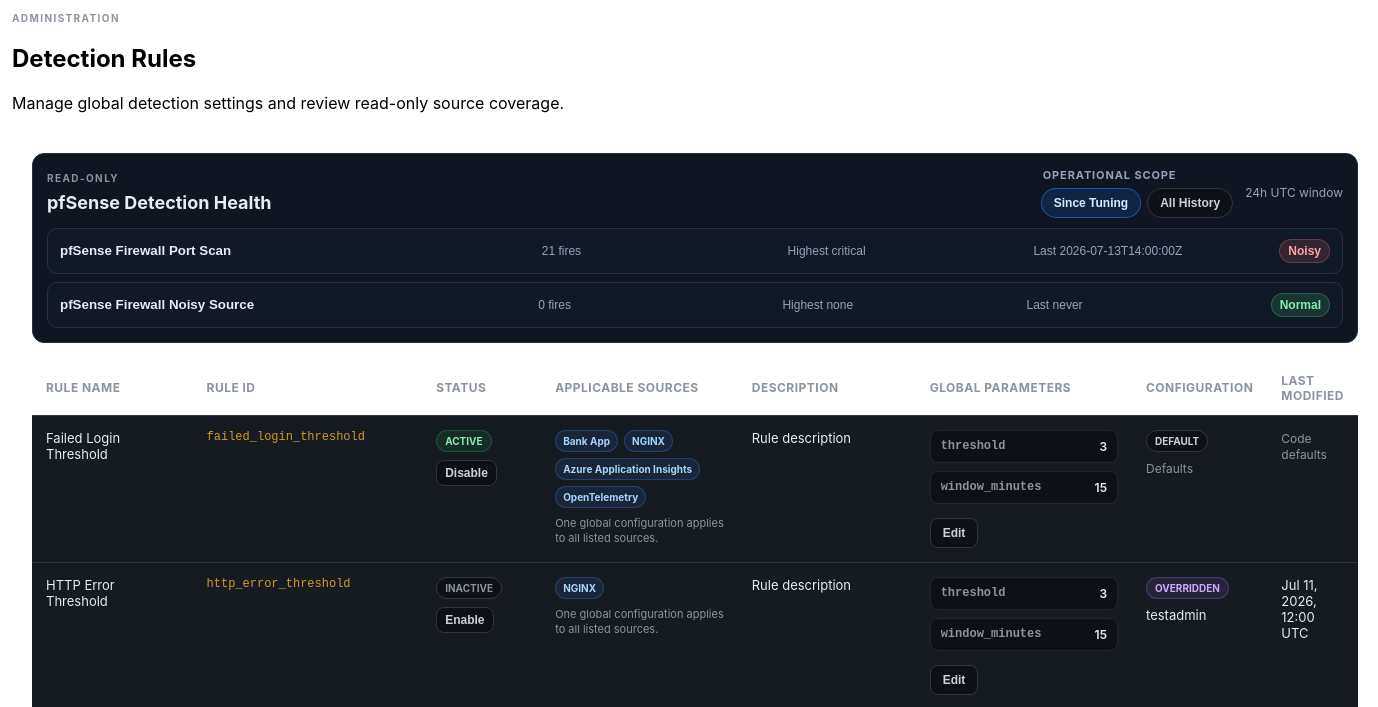
Test: failed active update rolls back optimistic state and displays an error
The width and height of the screenshot is (1378, 707).
Click the button with aria-label "Disable Failed Login Threshold" at [467, 473], box left=436, top=460, right=497, bottom=486
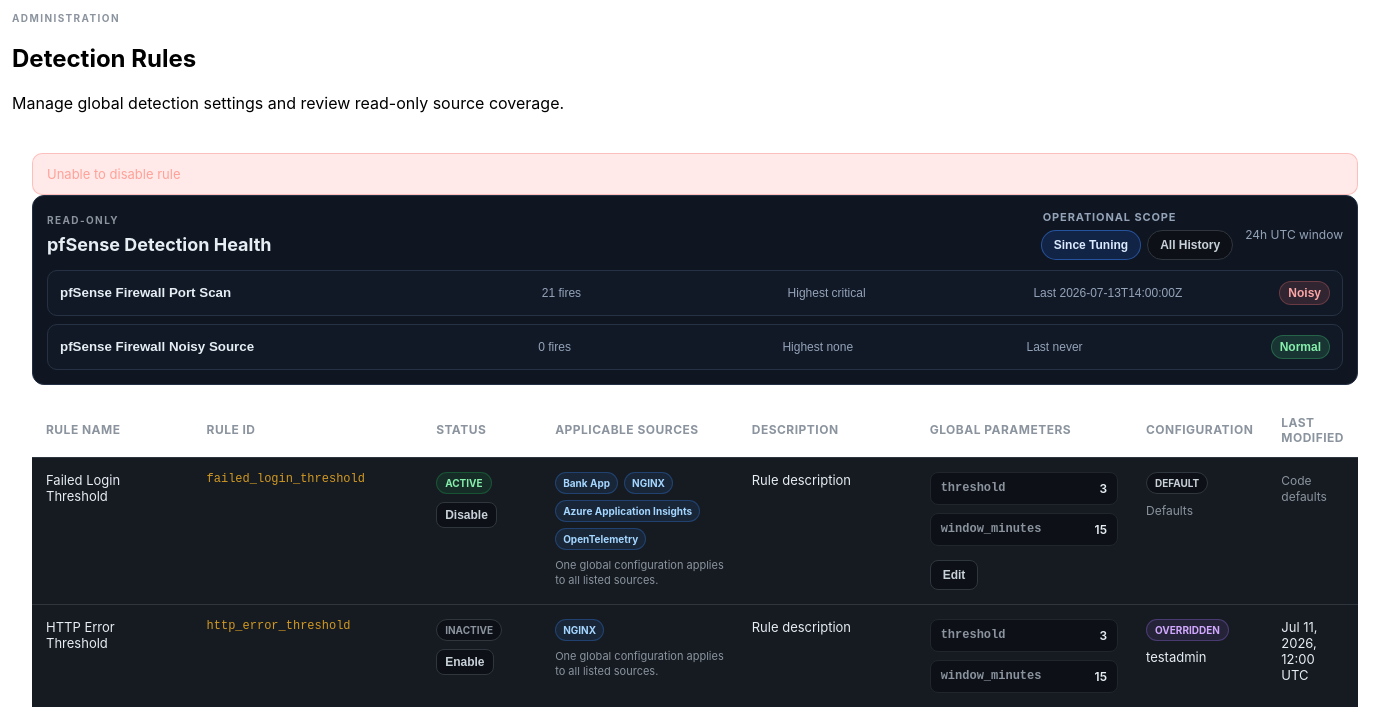
expect the button with aria-label "Disable Failed Login Threshold" is shown: met, box left=436, top=502, right=497, bottom=528
expect the message reads "Unable to disable rule": met, box left=47, top=166, right=180, bottom=182
